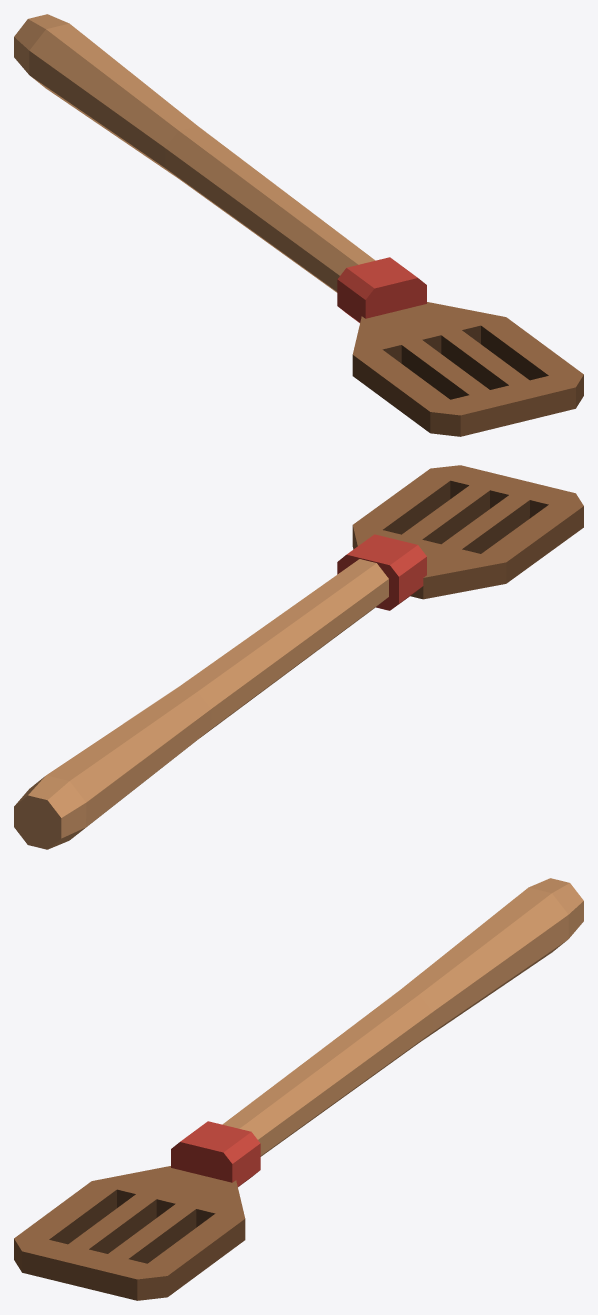
Rendered from FMS_Workshop_TOL_03.fbx.
3 views of the same model, one above another, from view 1: azimuth 30°, elevation 25°; view 2: azimuth 150°, elevation 25°; view 3: azimuth 330°, elevation 25° (orthographic).
Visible parts, largest first — view 1: FMS_Workshop_TOL_03_Body; view 2: FMS_Workshop_TOL_03_Body; view 3: FMS_Workshop_TOL_03_Body.
Part boxes in pixels (bbox=[...]): FMS_Workshop_TOL_03_Body: bbox=[14, 14, 583, 436]; FMS_Workshop_TOL_03_Body: bbox=[14, 465, 583, 849]; FMS_Workshop_TOL_03_Body: bbox=[14, 878, 583, 1300].
Size of the model in its own units: 0.12 by 0.0443 by 0.65.
